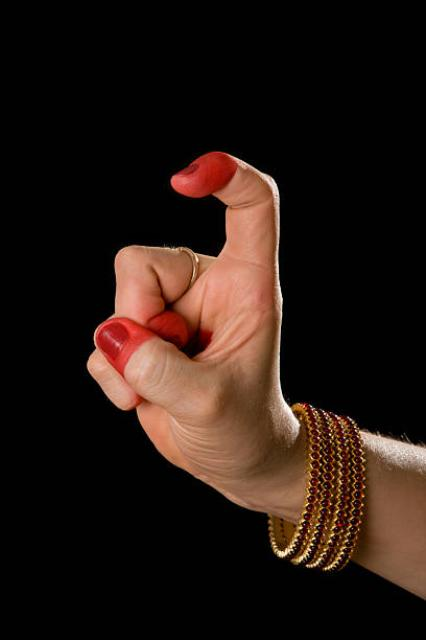tamrachud: (88, 153, 426, 605)
